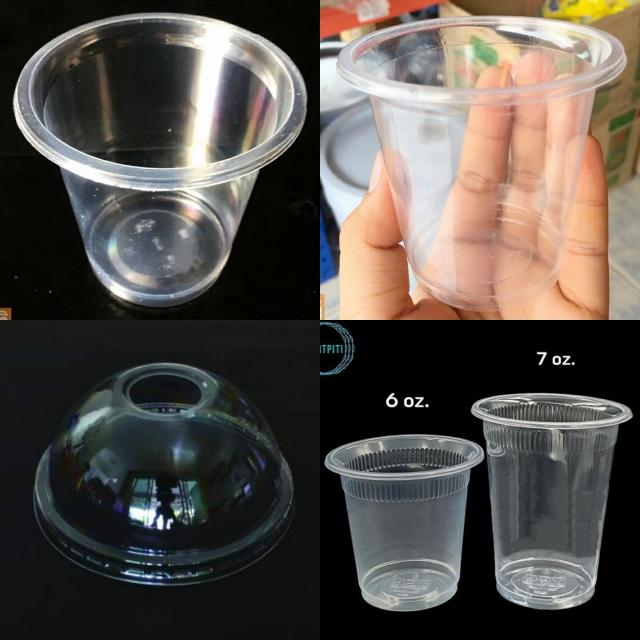Single-Use-Plastic: (15, 14, 306, 306), (338, 16, 626, 311), (34, 362, 294, 584), (471, 394, 631, 609), (325, 435, 484, 611)
